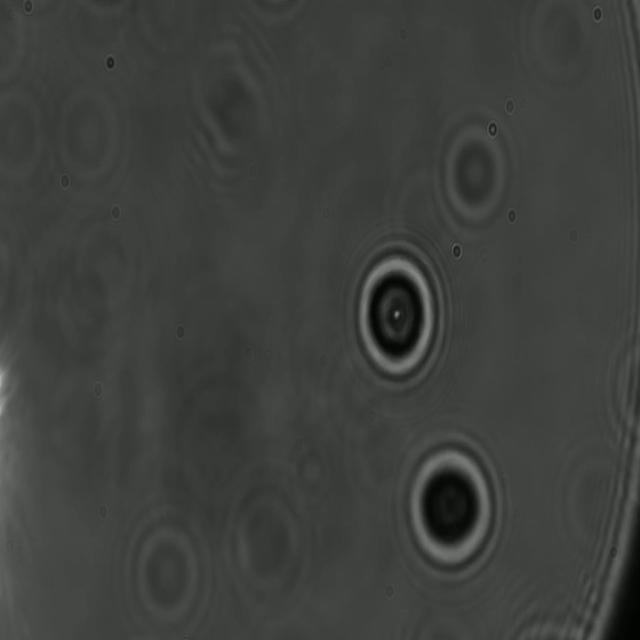DCELL: (394, 428, 508, 586)
LCELL: (332, 223, 459, 404)
